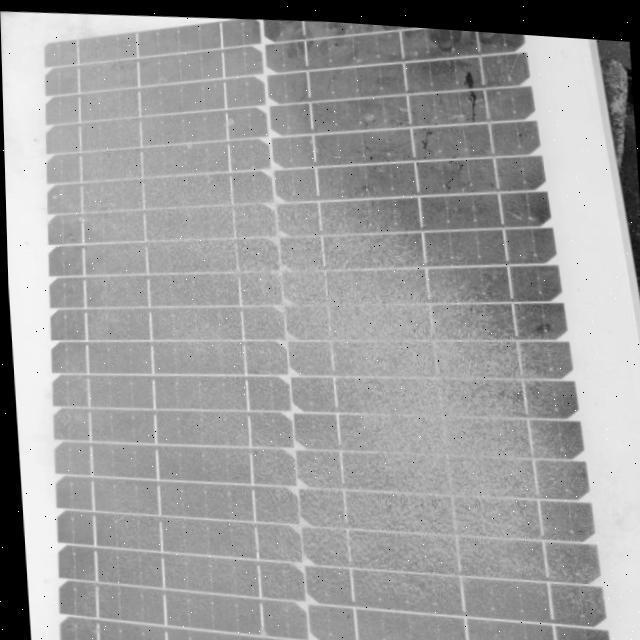Surface Contaminant: (5, 17, 569, 640)
